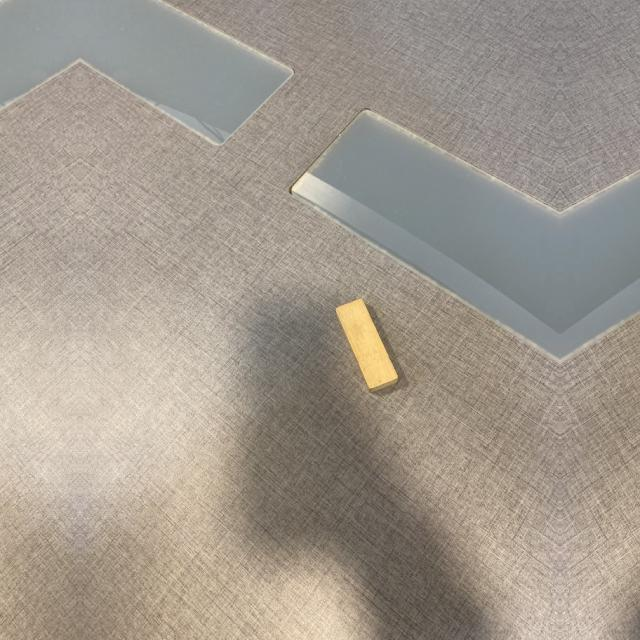jenga: (336, 299, 402, 396)
